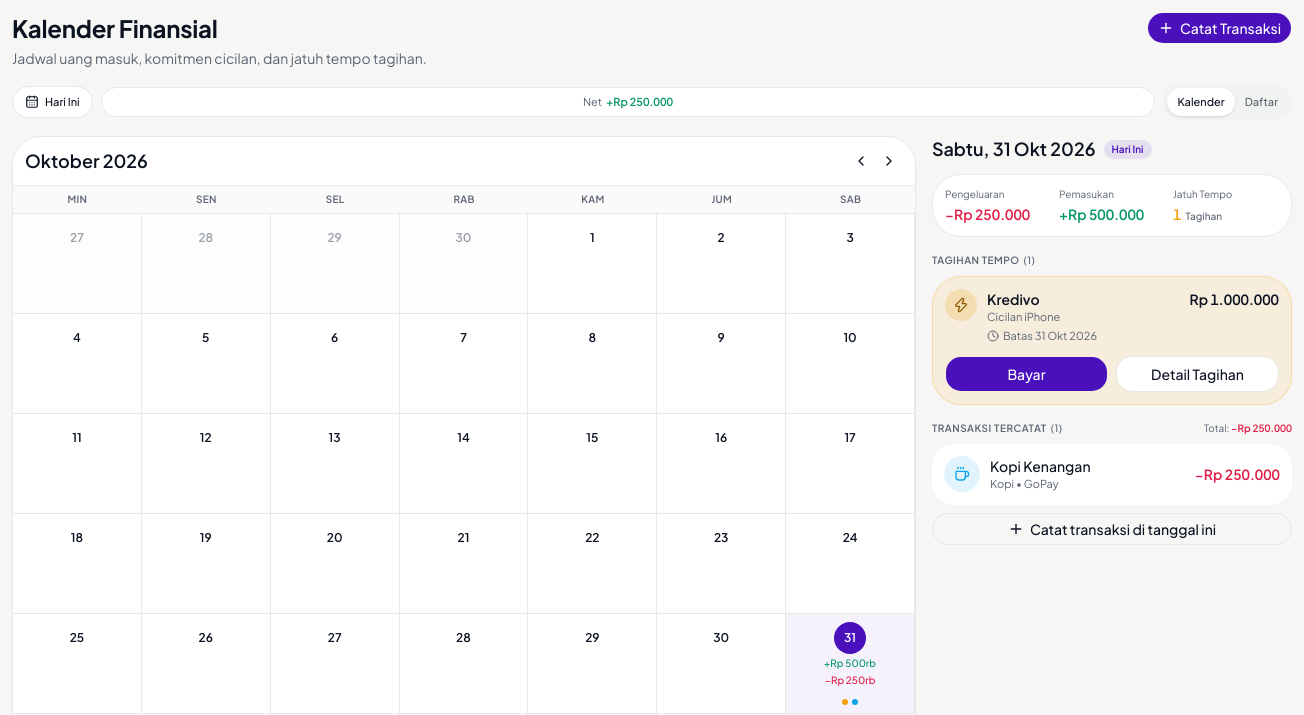
Test case: CalendarPage › berpindah ke tampilan daftar tanpa error
The width and height of the screenshot is (1304, 715).
Click the button "Daftar" at (1261, 102), box [1235,88,1288,116]
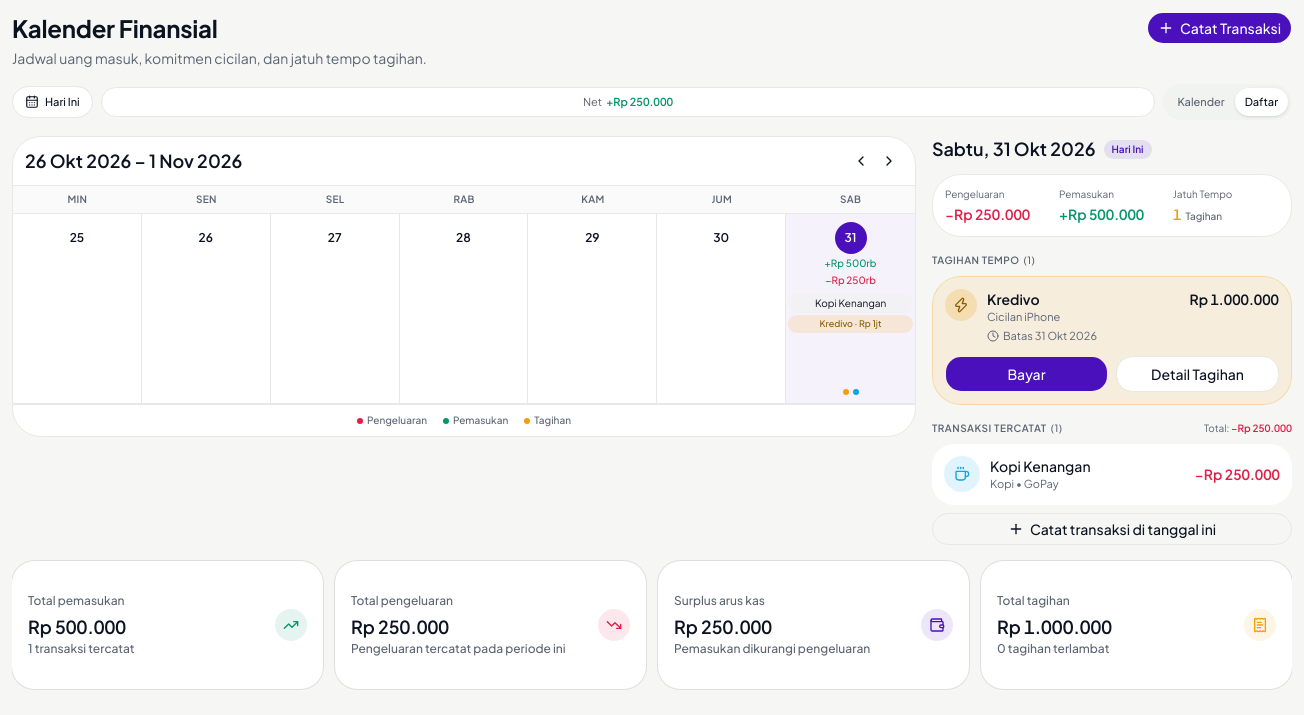
Result: the text "Kredivo · Rp 1jt" is shown at [788,315,913,332]
